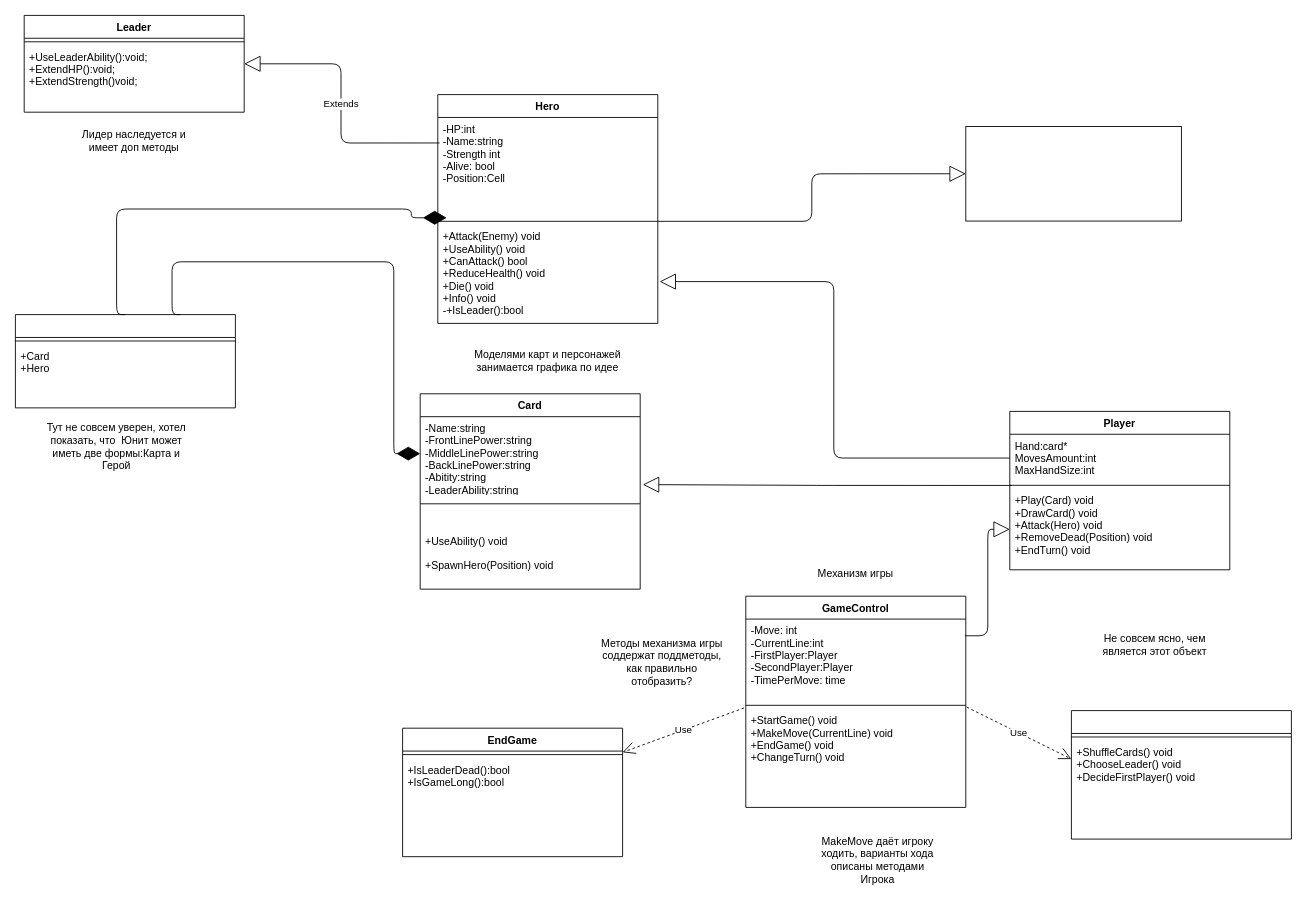
This 1307x902 diagram has some shape labels left out. The shapes that lost their labels are listed below. From the top down, each one's box as (x1, y1, x2, y2) in pixels, then its label:
(965, 126, 1181, 221): Position -Line:int -Cell:int +GetPosition() :Int +IsEmpty(): bool
(15, 314, 235, 408): UnitType
(1071, 710, 1291, 839): StartGame
